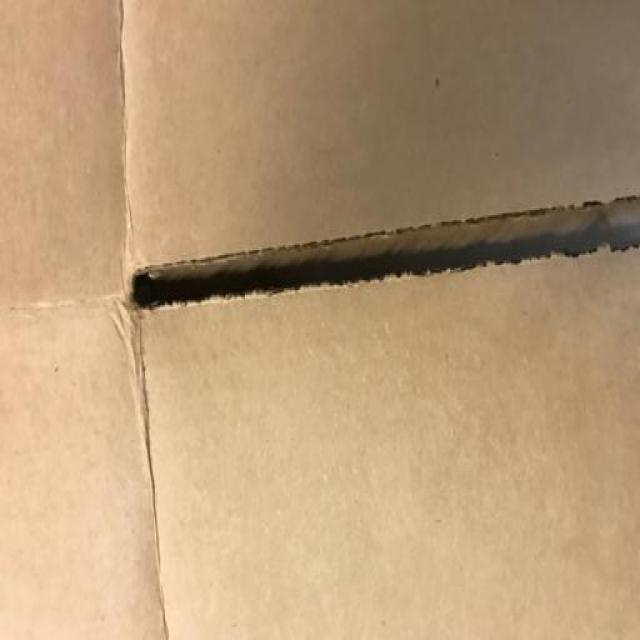Cardboard: (0, 3, 640, 640)
